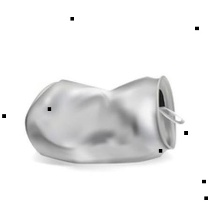can: (20, 69, 191, 169)
